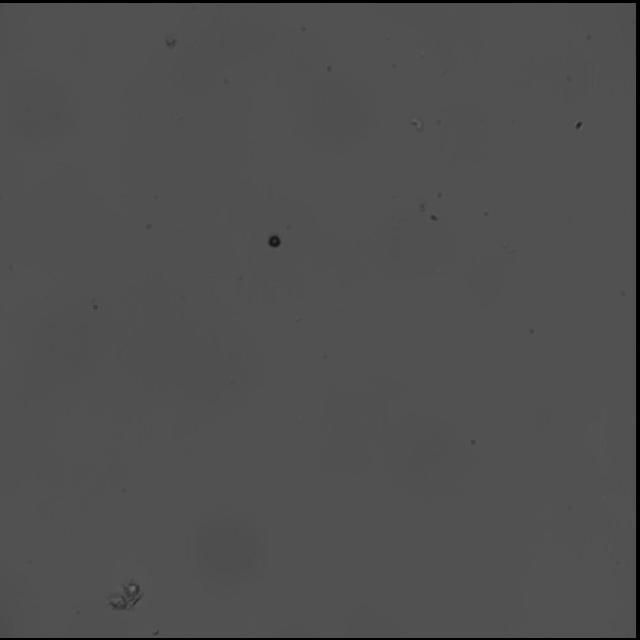microbeads: (262, 232, 284, 250)
